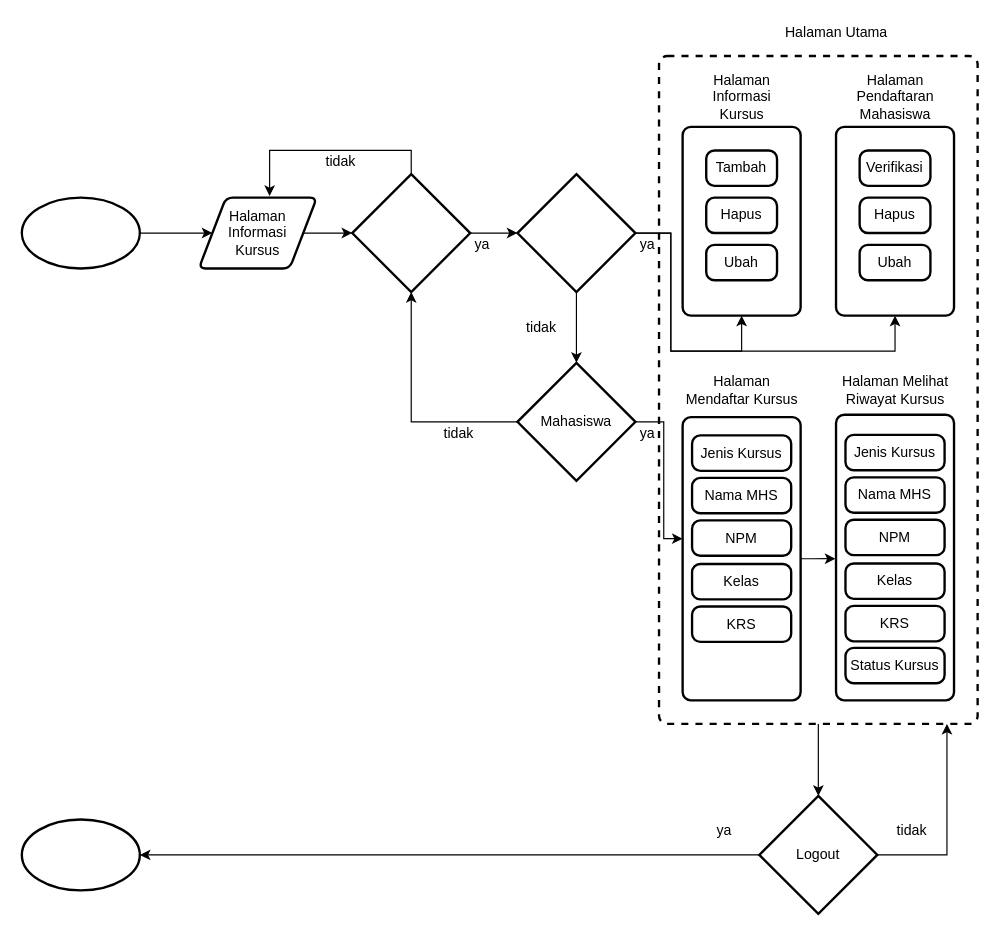
This 998x935 diagram has some shape labels left out. Here are the shapes that lost their labels. From the top down, the centre of each, then its label:
point 80,232: Mulai
point 410,232: Login
point 576,232: Admin
point 80,854: Selesai
